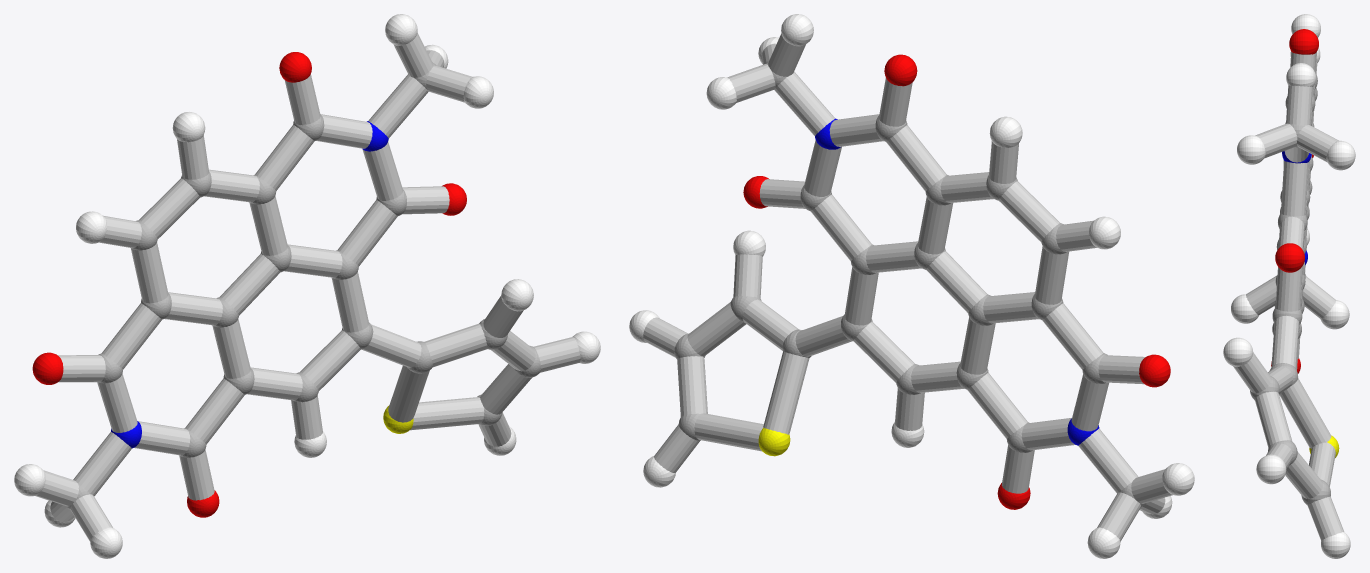
The model's file is Dimethyl_Naphthalene_Dicarboximide_Phi_10_Theta_30_Thiophene.glb.
3 views of the same model, side by side, from view 1: azimuth 30°, elevation 25°; view 2: azimuth 150°, elevation 25°; view 3: azimuth 270°, elevation 25° (orthographic). The views are drawn at different scales.
Visible parts, largest first — view 1: grp14119, grp7241, grp1, grp12309, grp11585; view 2: grp14119, grp7241, grp1, grp12309, grp11585, grp13757; view 3: grp14119, grp7241, grp1, grp12309.
Boxes of the visible parts, x1,y1,x2,y2 form: grp14119: (35,32,580,541); grp7241: (14,14,600,558); grp1: (65,62,540,510); grp12309: (32,52,466,517); grp11585: (111,121,388,448); grp14119: (643,33,1172,541); grp7241: (629,14,1194,558); grp1: (674,60,1146,506); grp12309: (743,54,1170,509); grp11585: (815,118,1099,445); grp13757: (758,427,790,456); grp14119: (1233,52,1344,540); grp7241: (1223,14,1355,558); grp1: (1250,73,1330,505); grp12309: (1271,29,1318,373).
Size of the model in its own units: 12.08 by 9.76 by 2.66.
